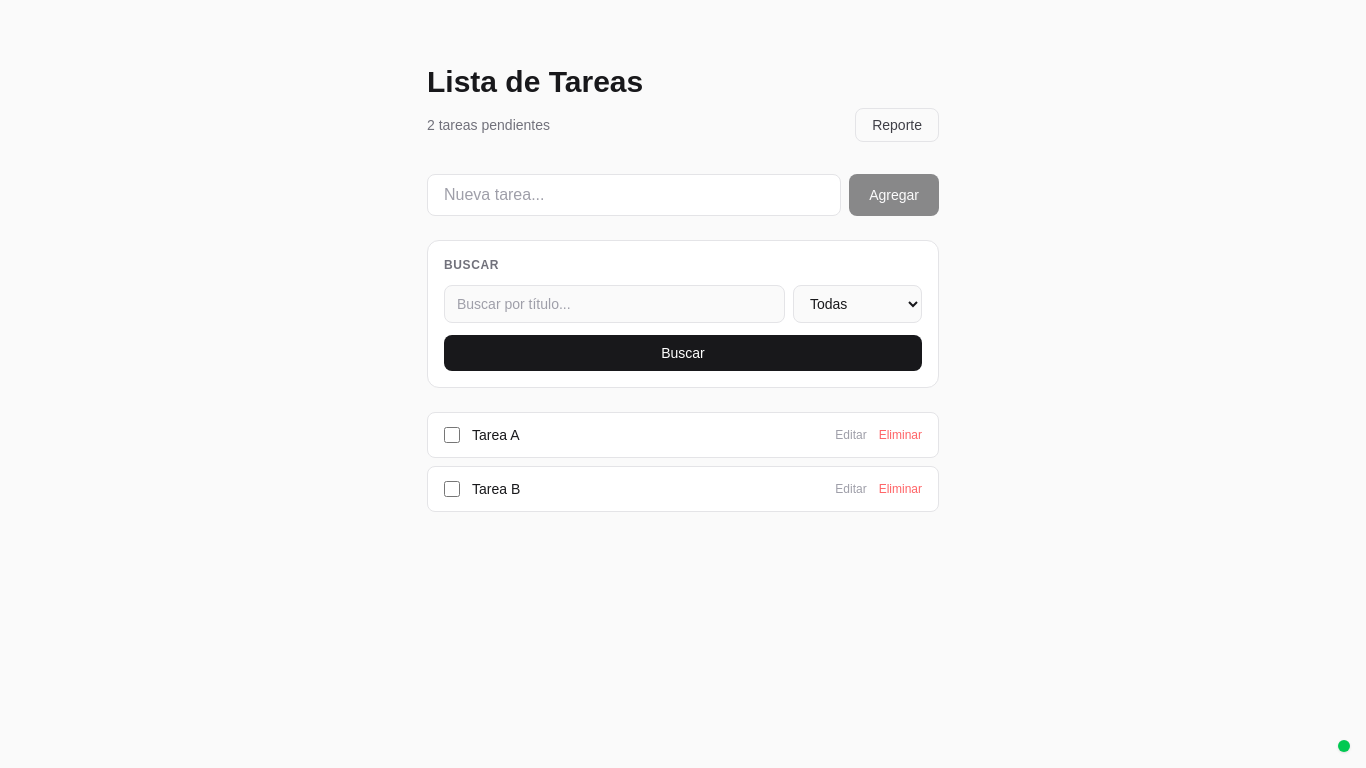
Scenario: ListaTareas — búsqueda › incluye el estado en el modal cuando se busca solo por estado sin resultado
Expected: the text "Tarea A" is shown, [472,427,520,443]
Select "Completadas" in the dropdown named "Filtrar por estado" at (858, 304), box [793,285,922,323]
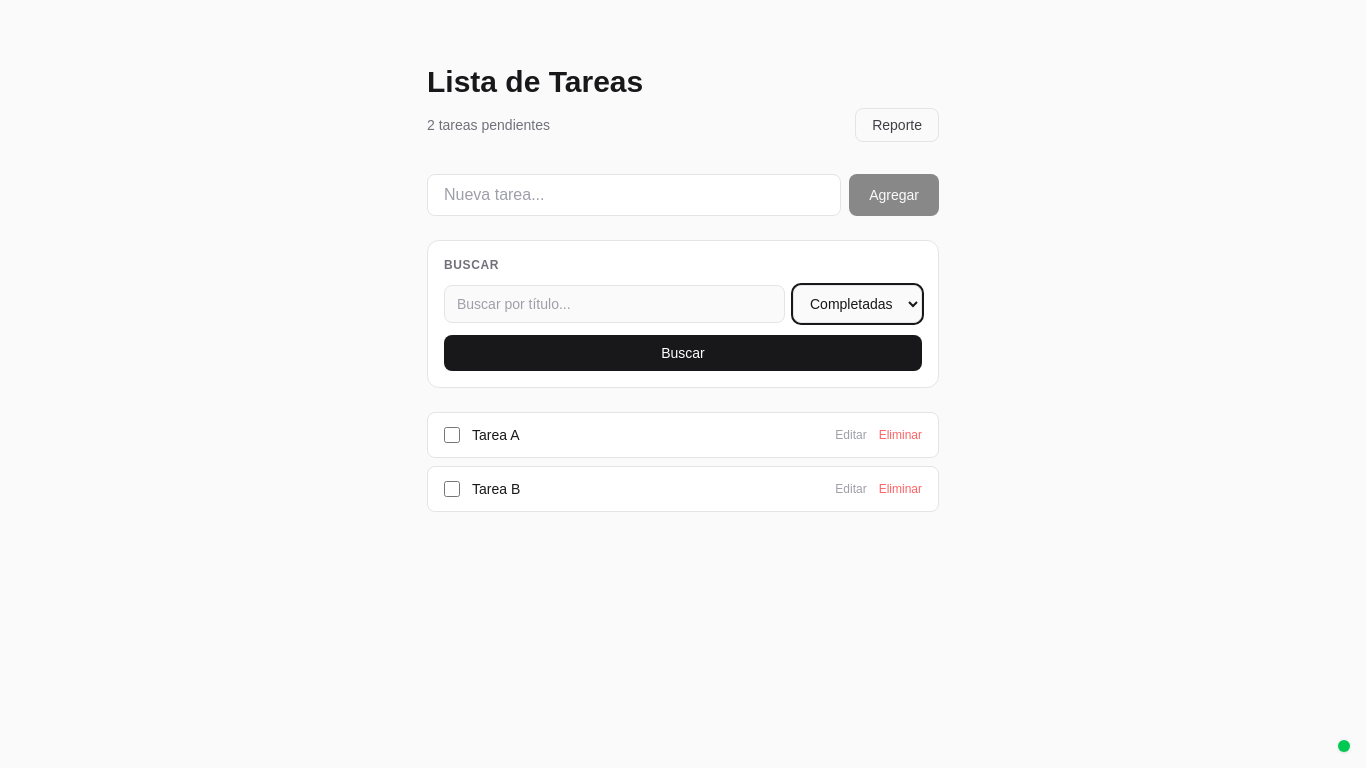
Click the button "Buscar" at (683, 353), box [444,335,922,371]
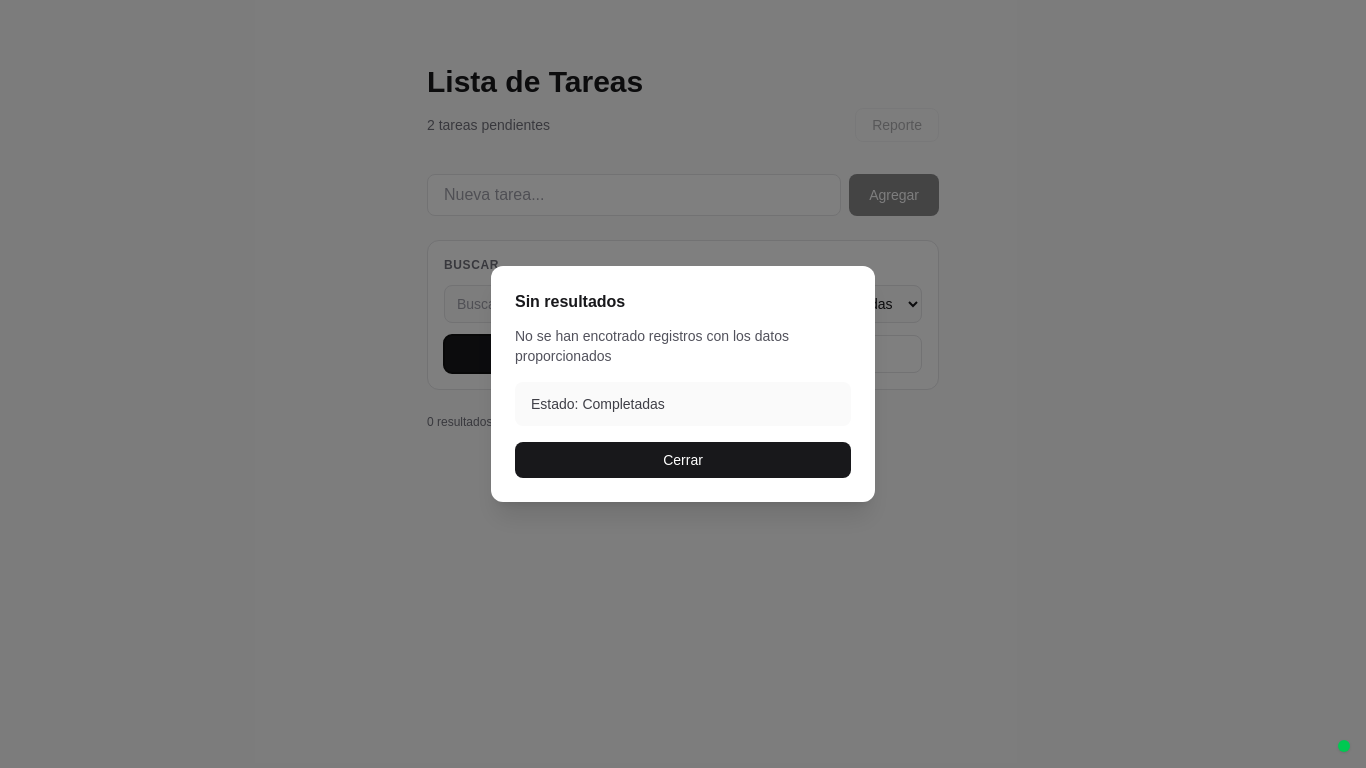
Now the dialog shows "Completadas", box [582,396,665,412]
